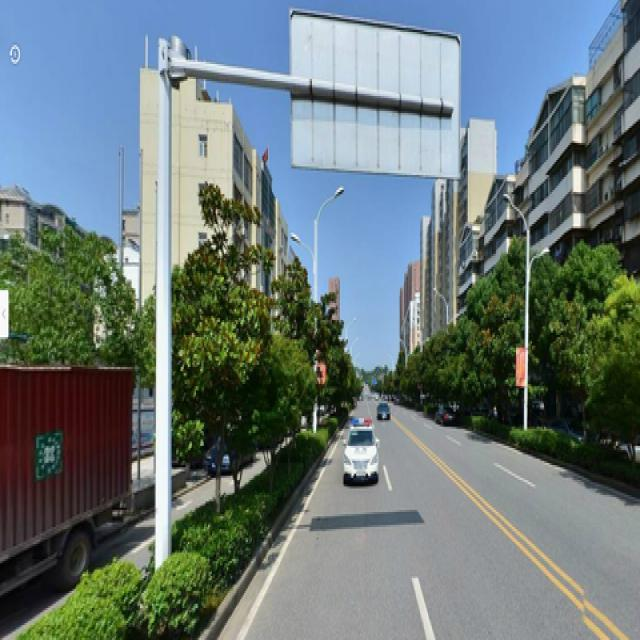magn: (192, 188, 259, 510)
